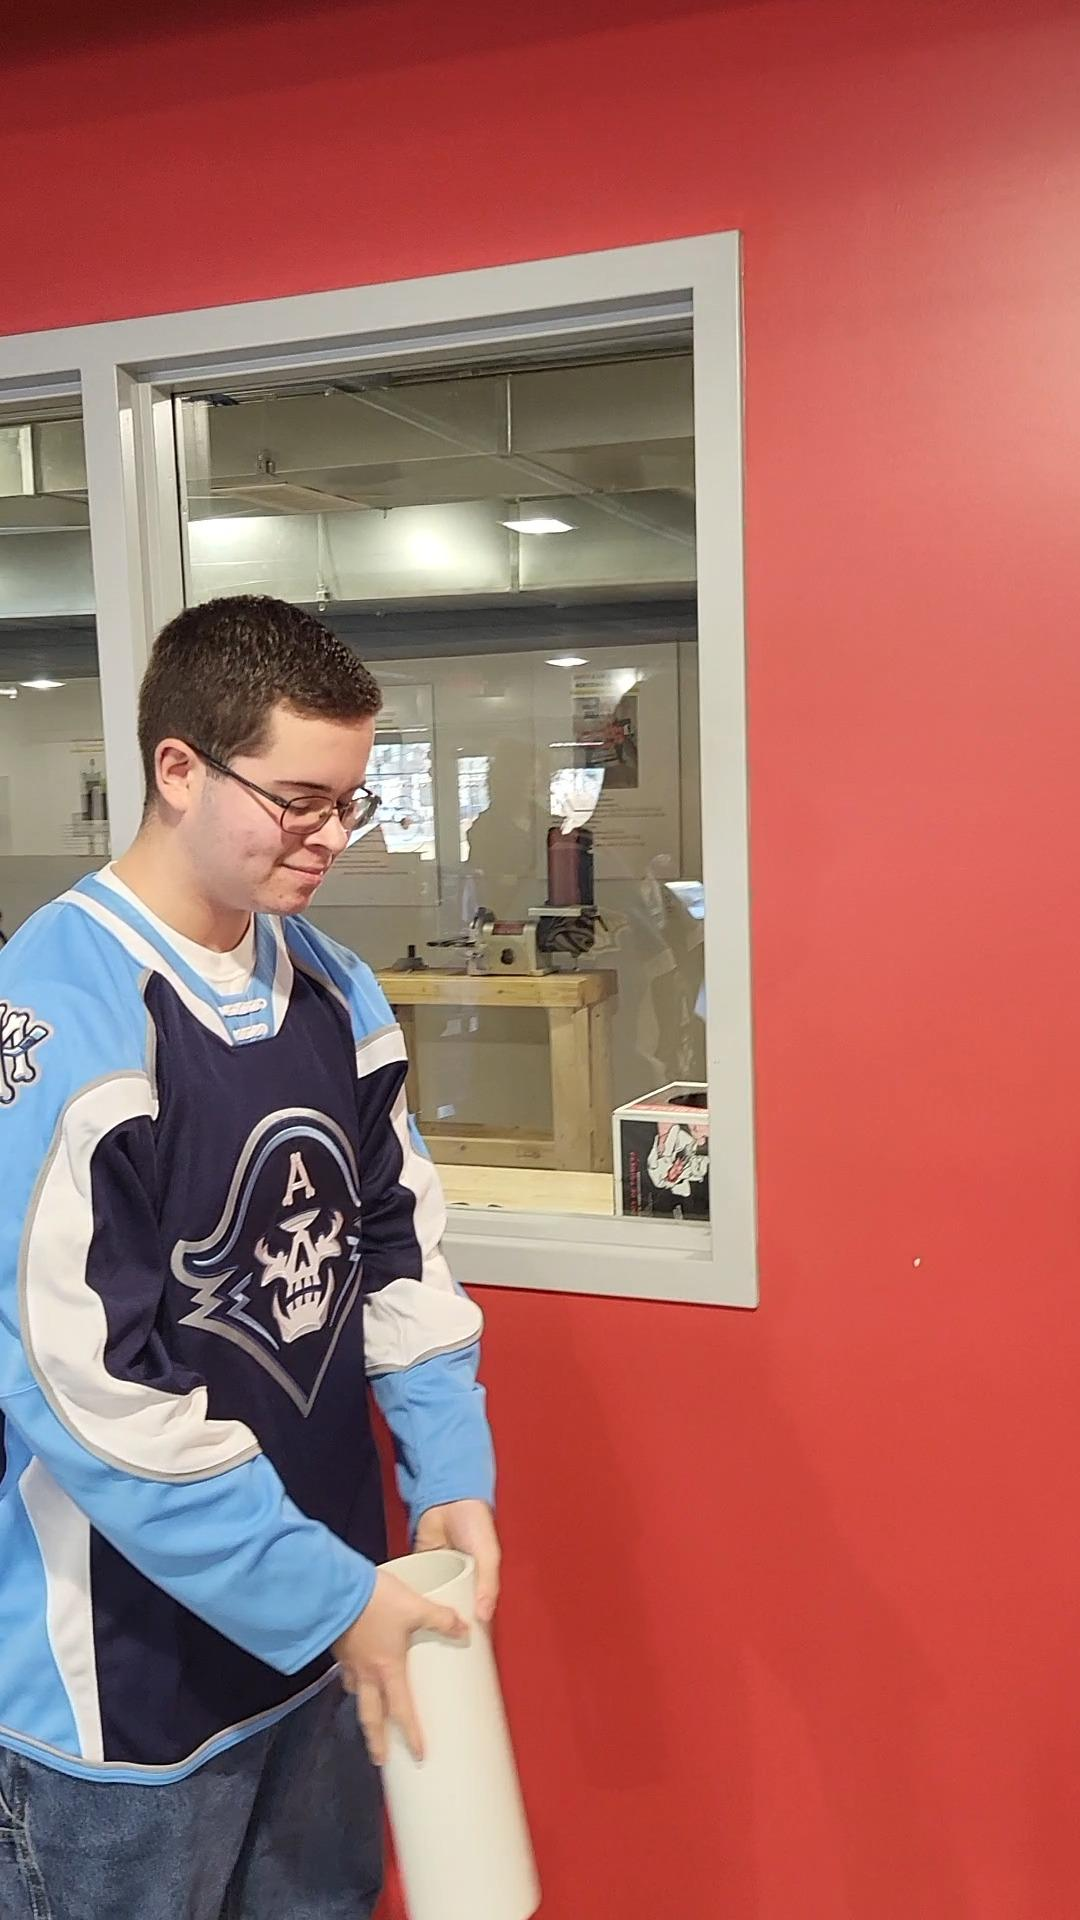coral: (349, 1553, 556, 1920)
